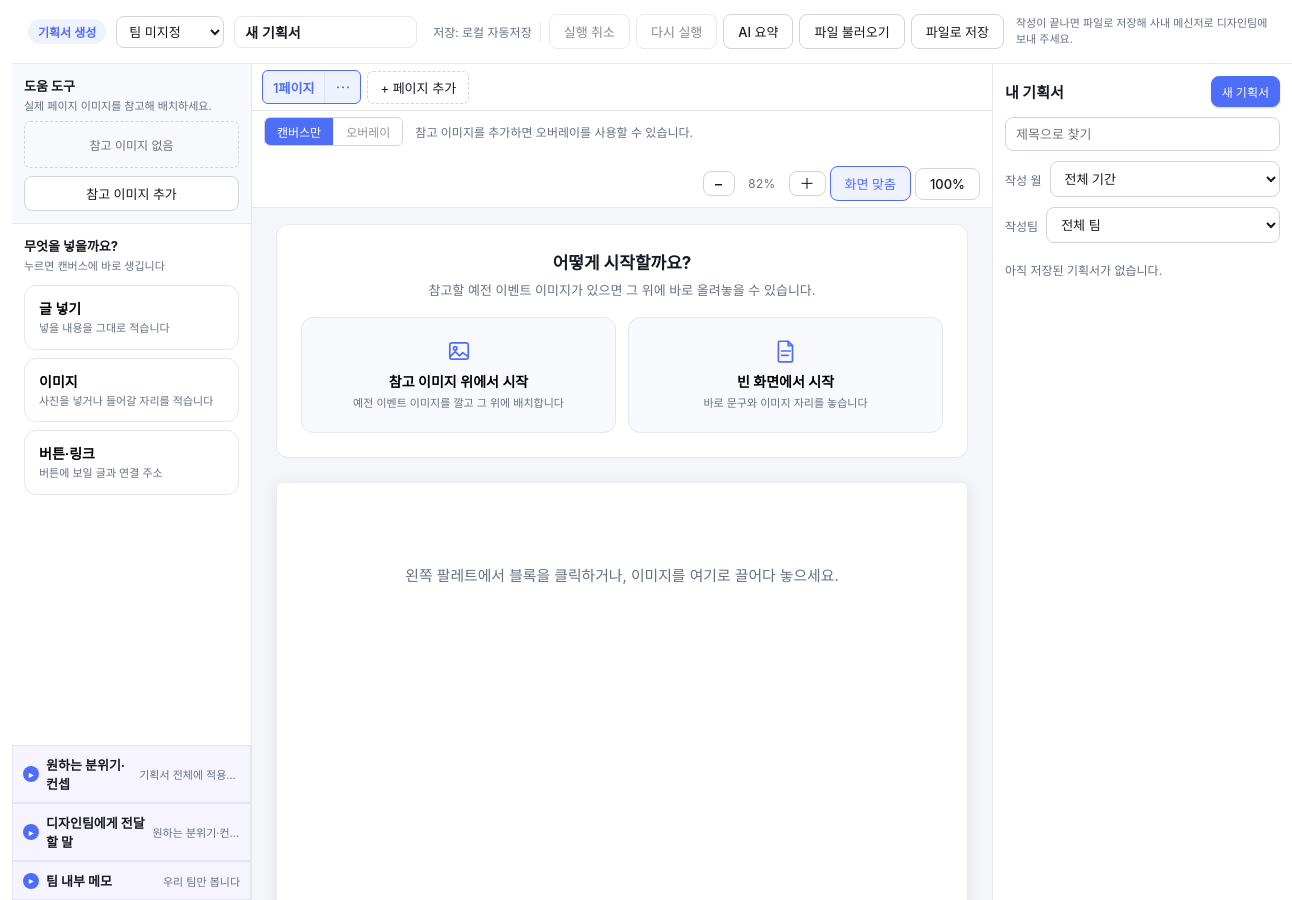
Test: §3.3 입력 후 세로 여백 정리 › still edits an existing block on double-click
Click the button "글 넣기 넣을 내용을 그대로 적습니다": (132, 317) [24,285,239,350]
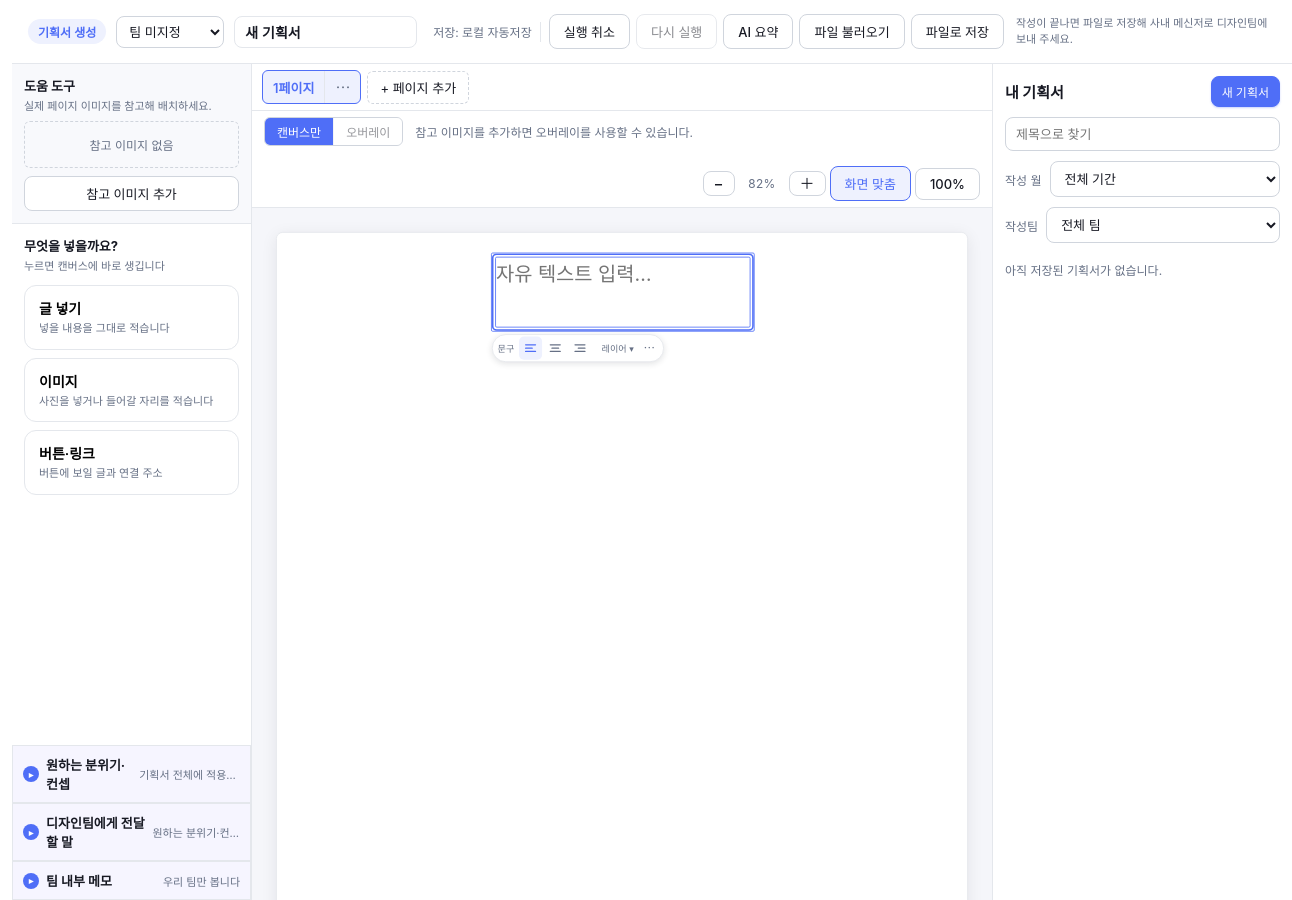
In the text box named "문구 내용": (623, 292) [495,257,750,328], type "처음 문구"
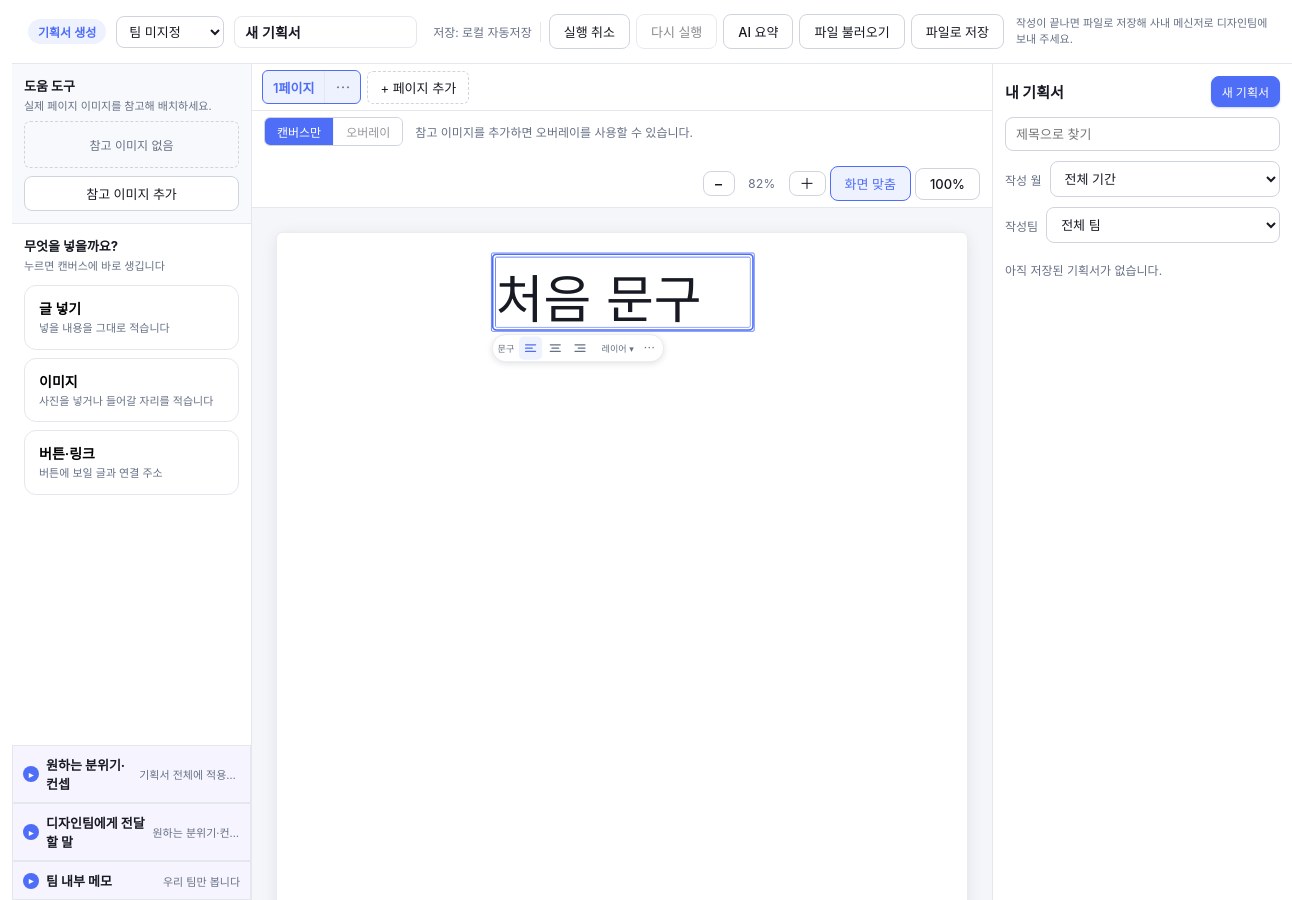
Type keys "{Control>}{Enter}{/Control}"
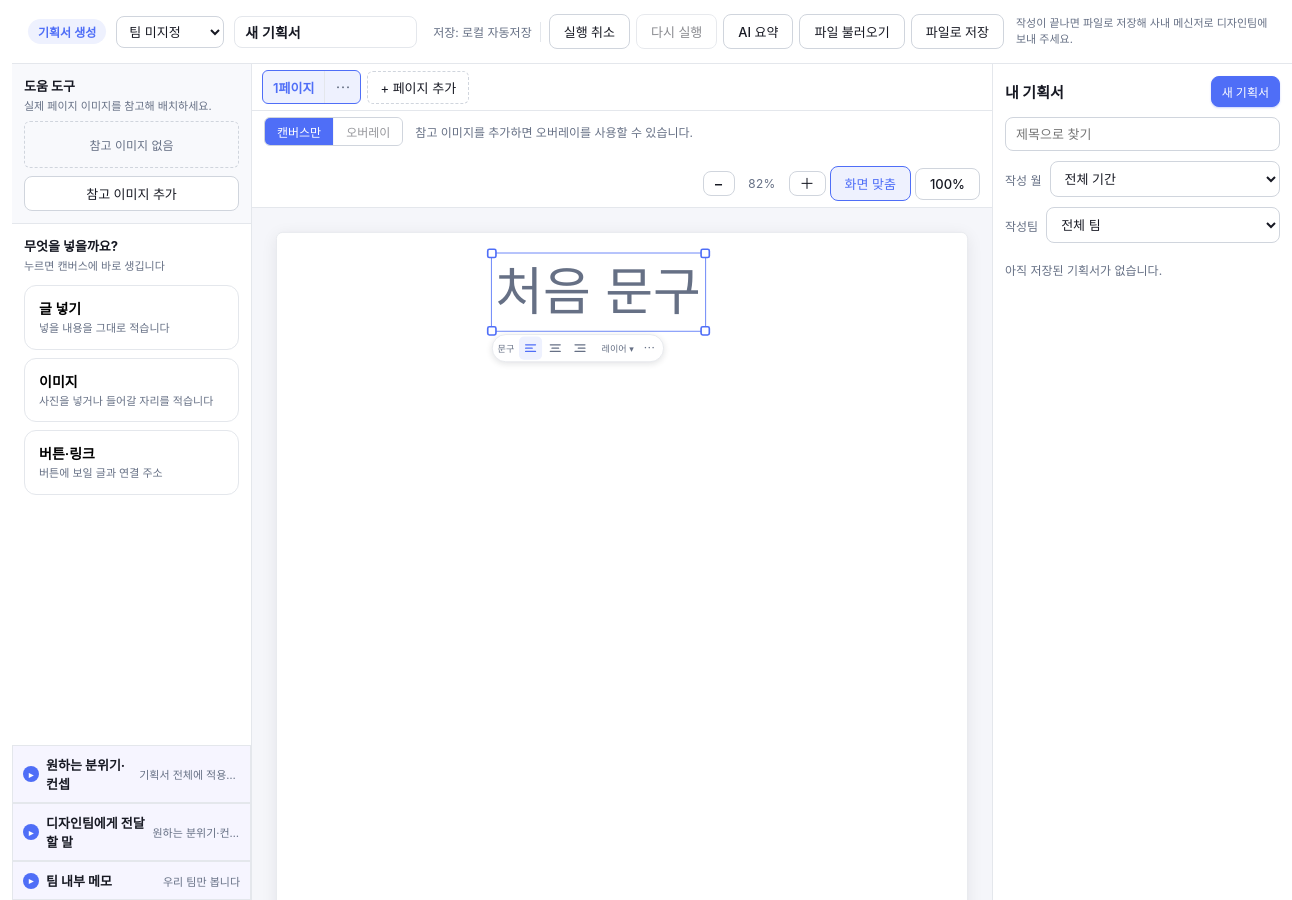
Double-click the button with class "block-card": (598, 292) [491,253,706,332]
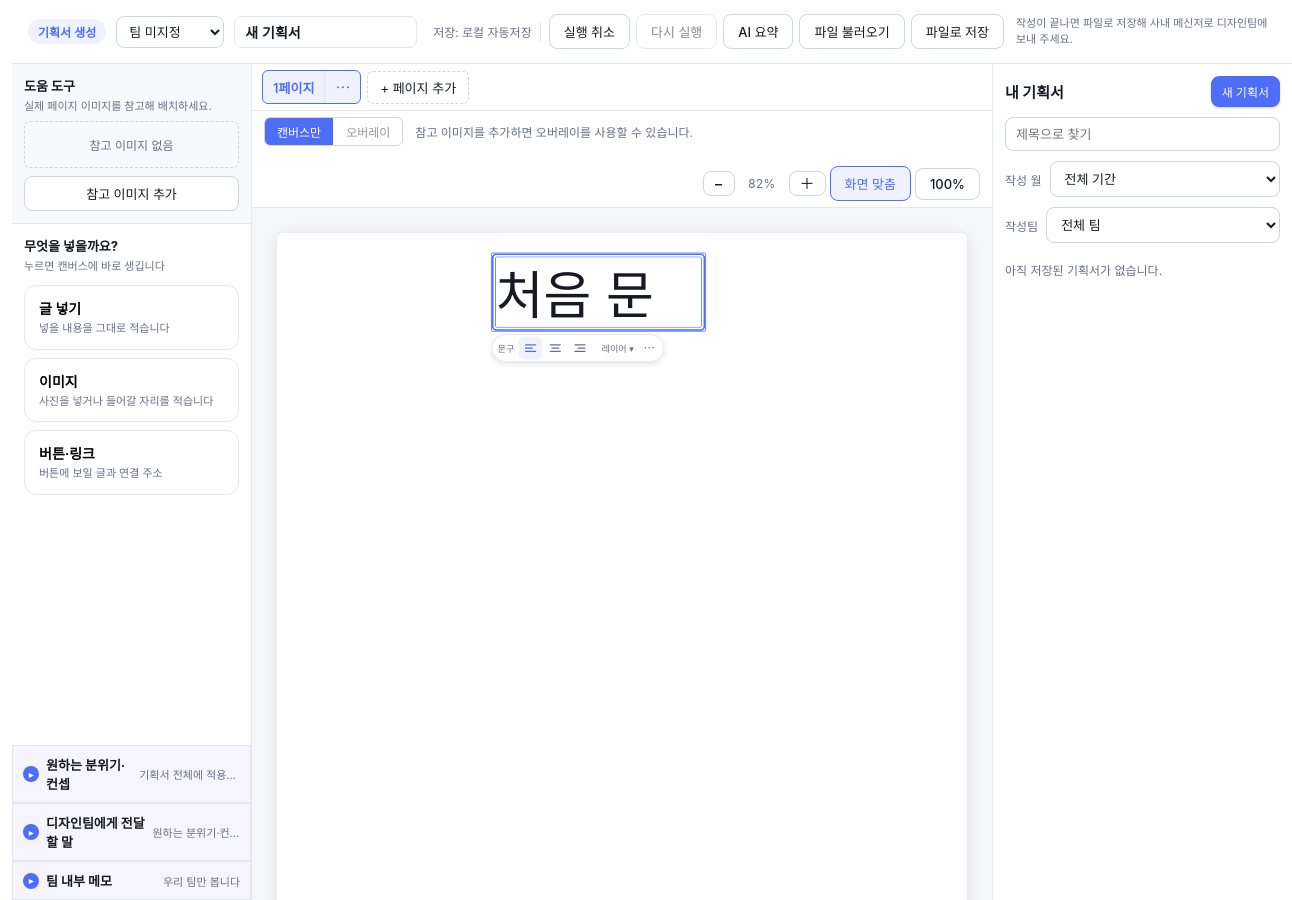
Expected: the text box named "문구 내용" holds "처음 문구", [495,257,702,328]
